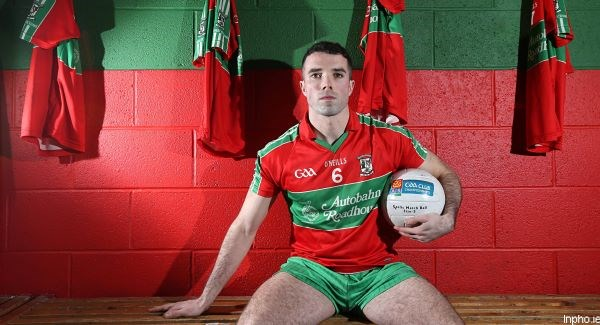ball: (384, 165, 448, 231)
player: (249, 38, 445, 322)
